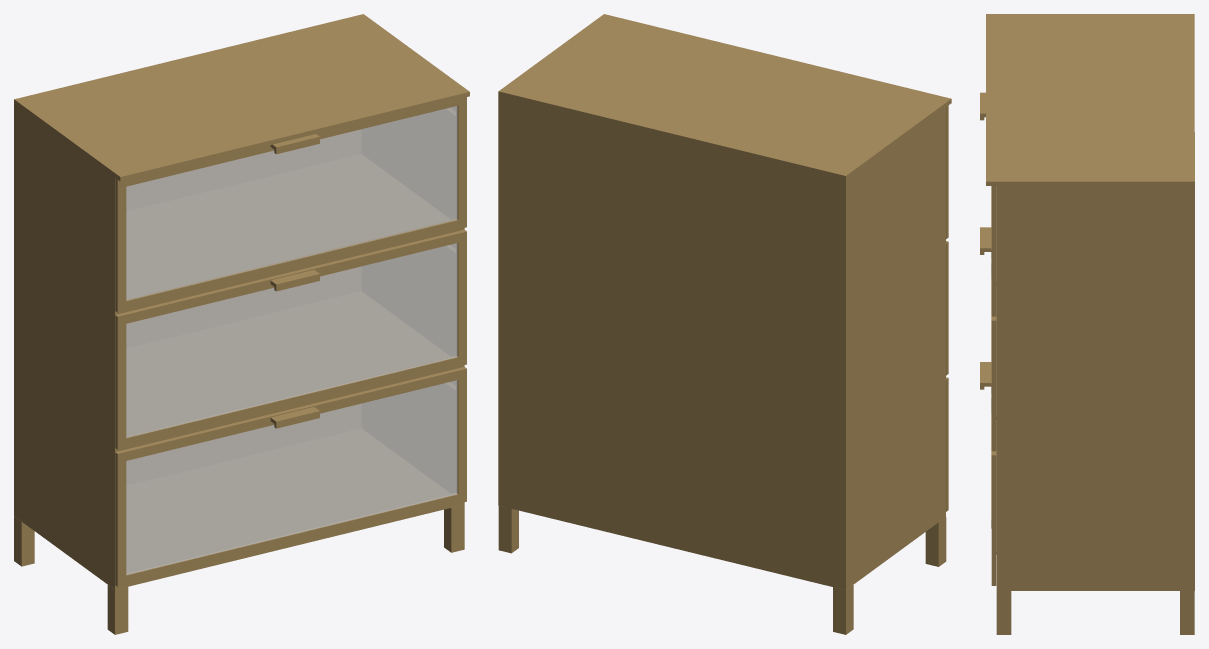
File: IKEA-Aneboda_Chest_of_3_Drawers-3D.obj
3 views of the same model, side by side, from view 1: azimuth 30°, elevation 25°; view 2: azimuth 150°, elevation 25°; view 3: azimuth 270°, elevation 25° (orthographic).
Parts seen in each view (by area): view 1: Layer_0; view 2: Layer_0; view 3: Layer_0.
Part boxes in pixels (<box>): Layer_0: <box>14,14,469,634</box>; Layer_0: <box>498,14,951,634</box>; Layer_0: <box>980,14,1194,634</box>.
Bounding box in the file's own units: 800 × 1010 × 433.
